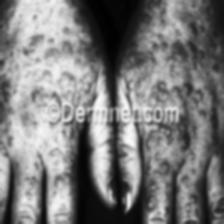Toxin: (144, 124, 190, 178), (142, 182, 170, 216), (42, 43, 62, 69), (30, 88, 44, 110)
